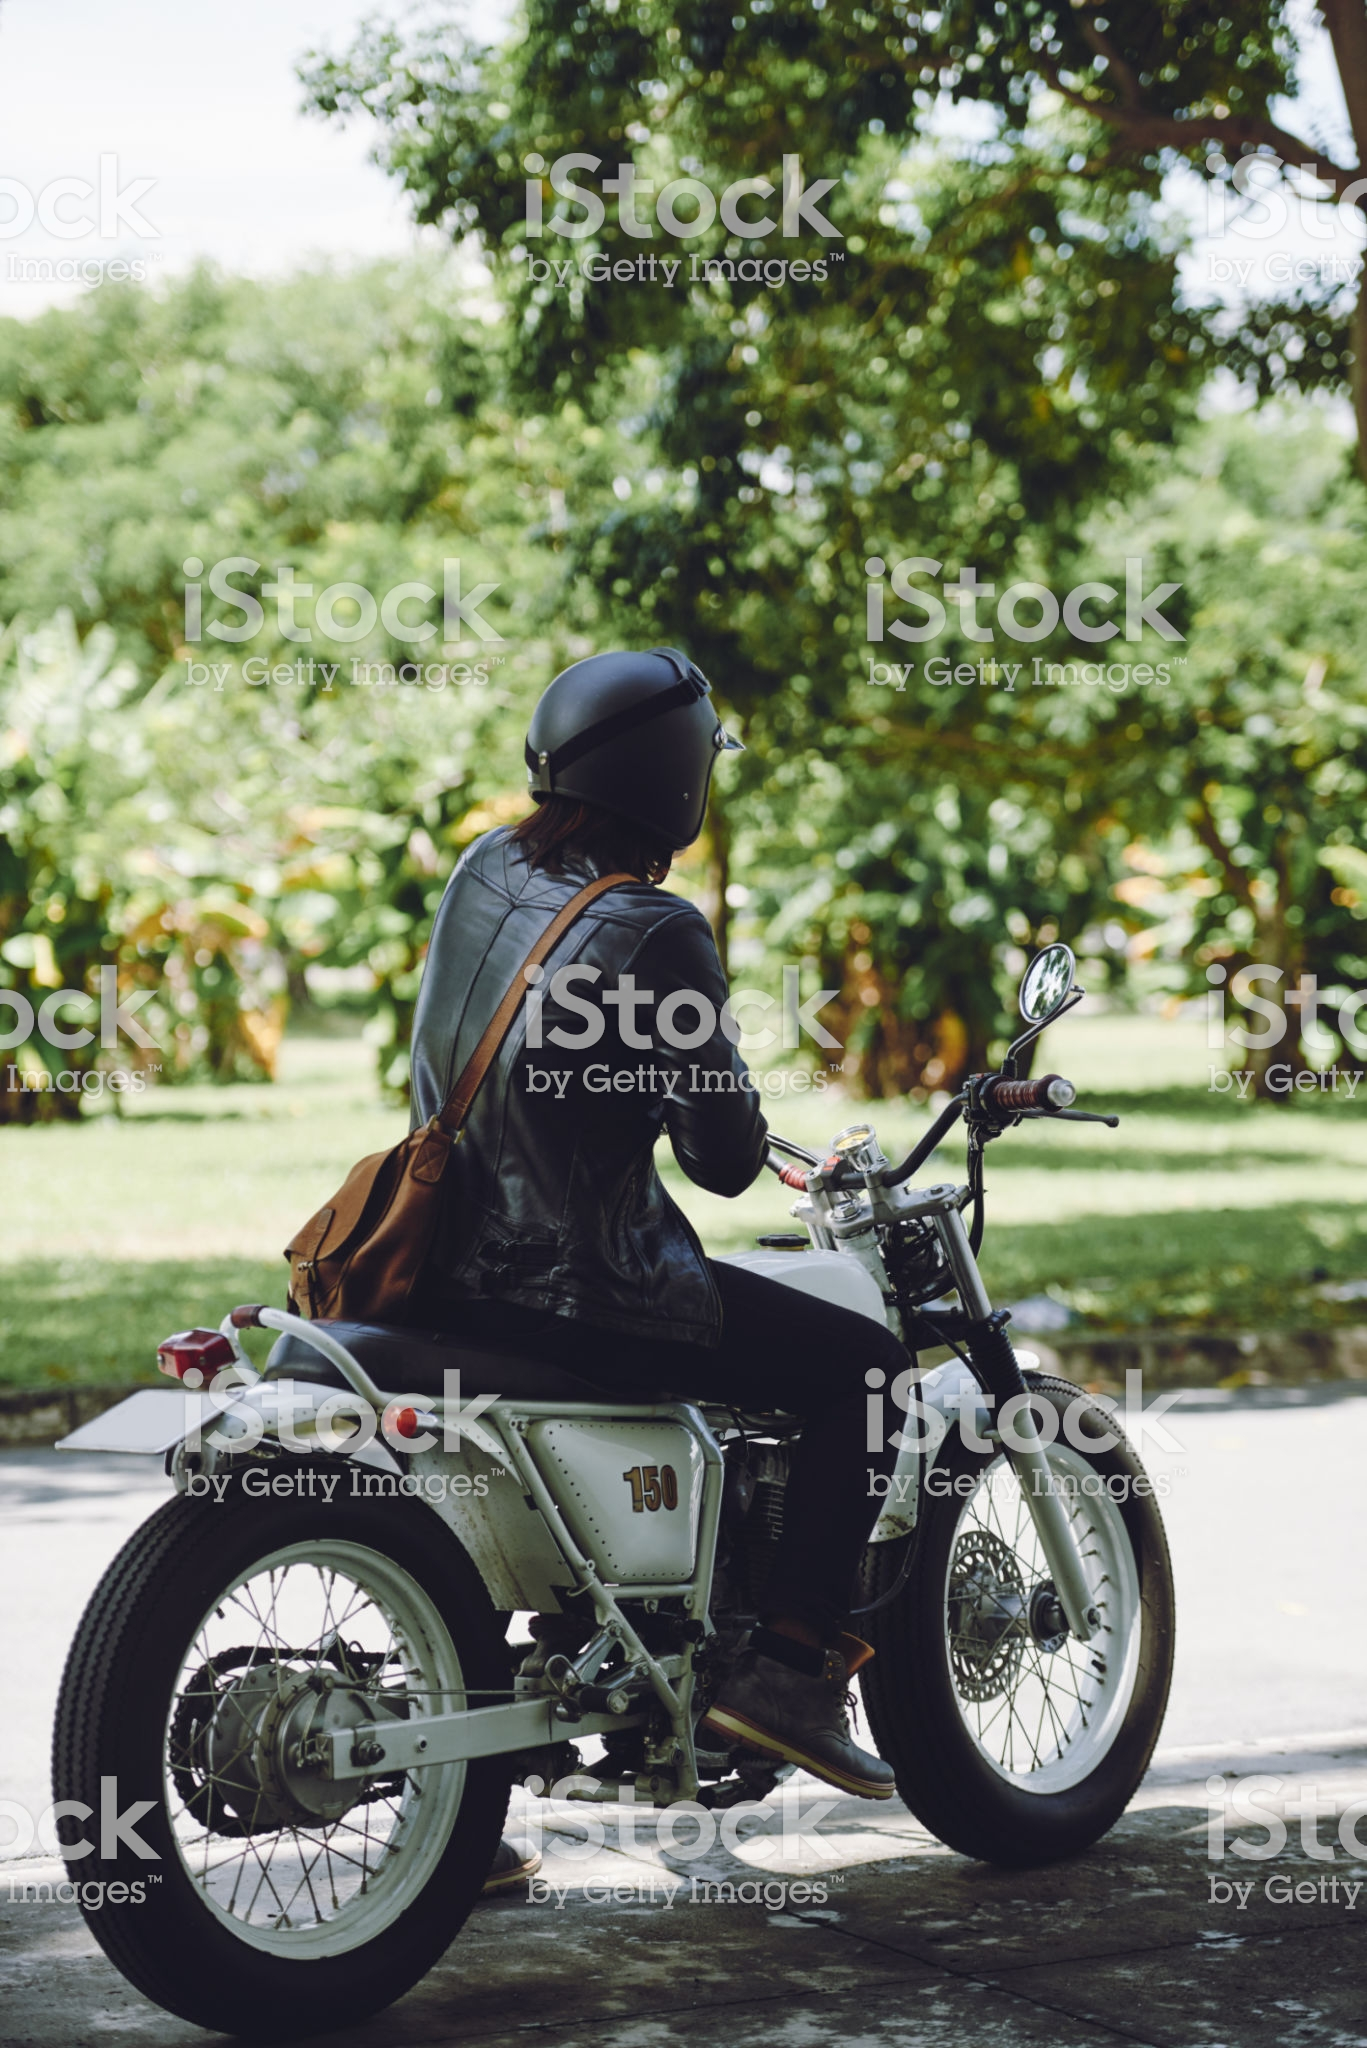helmet: (526, 653, 764, 855)
